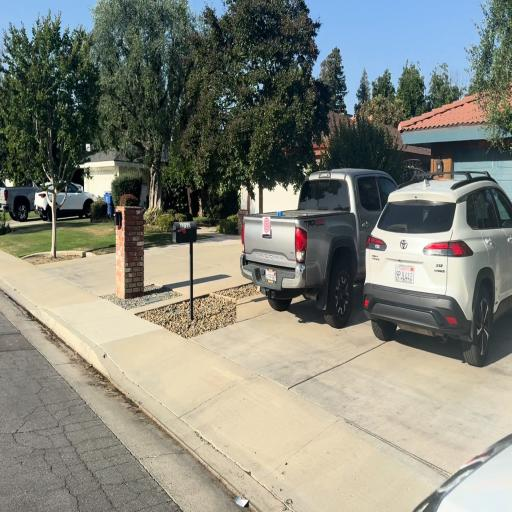bullseye: (263, 216, 270, 234)
